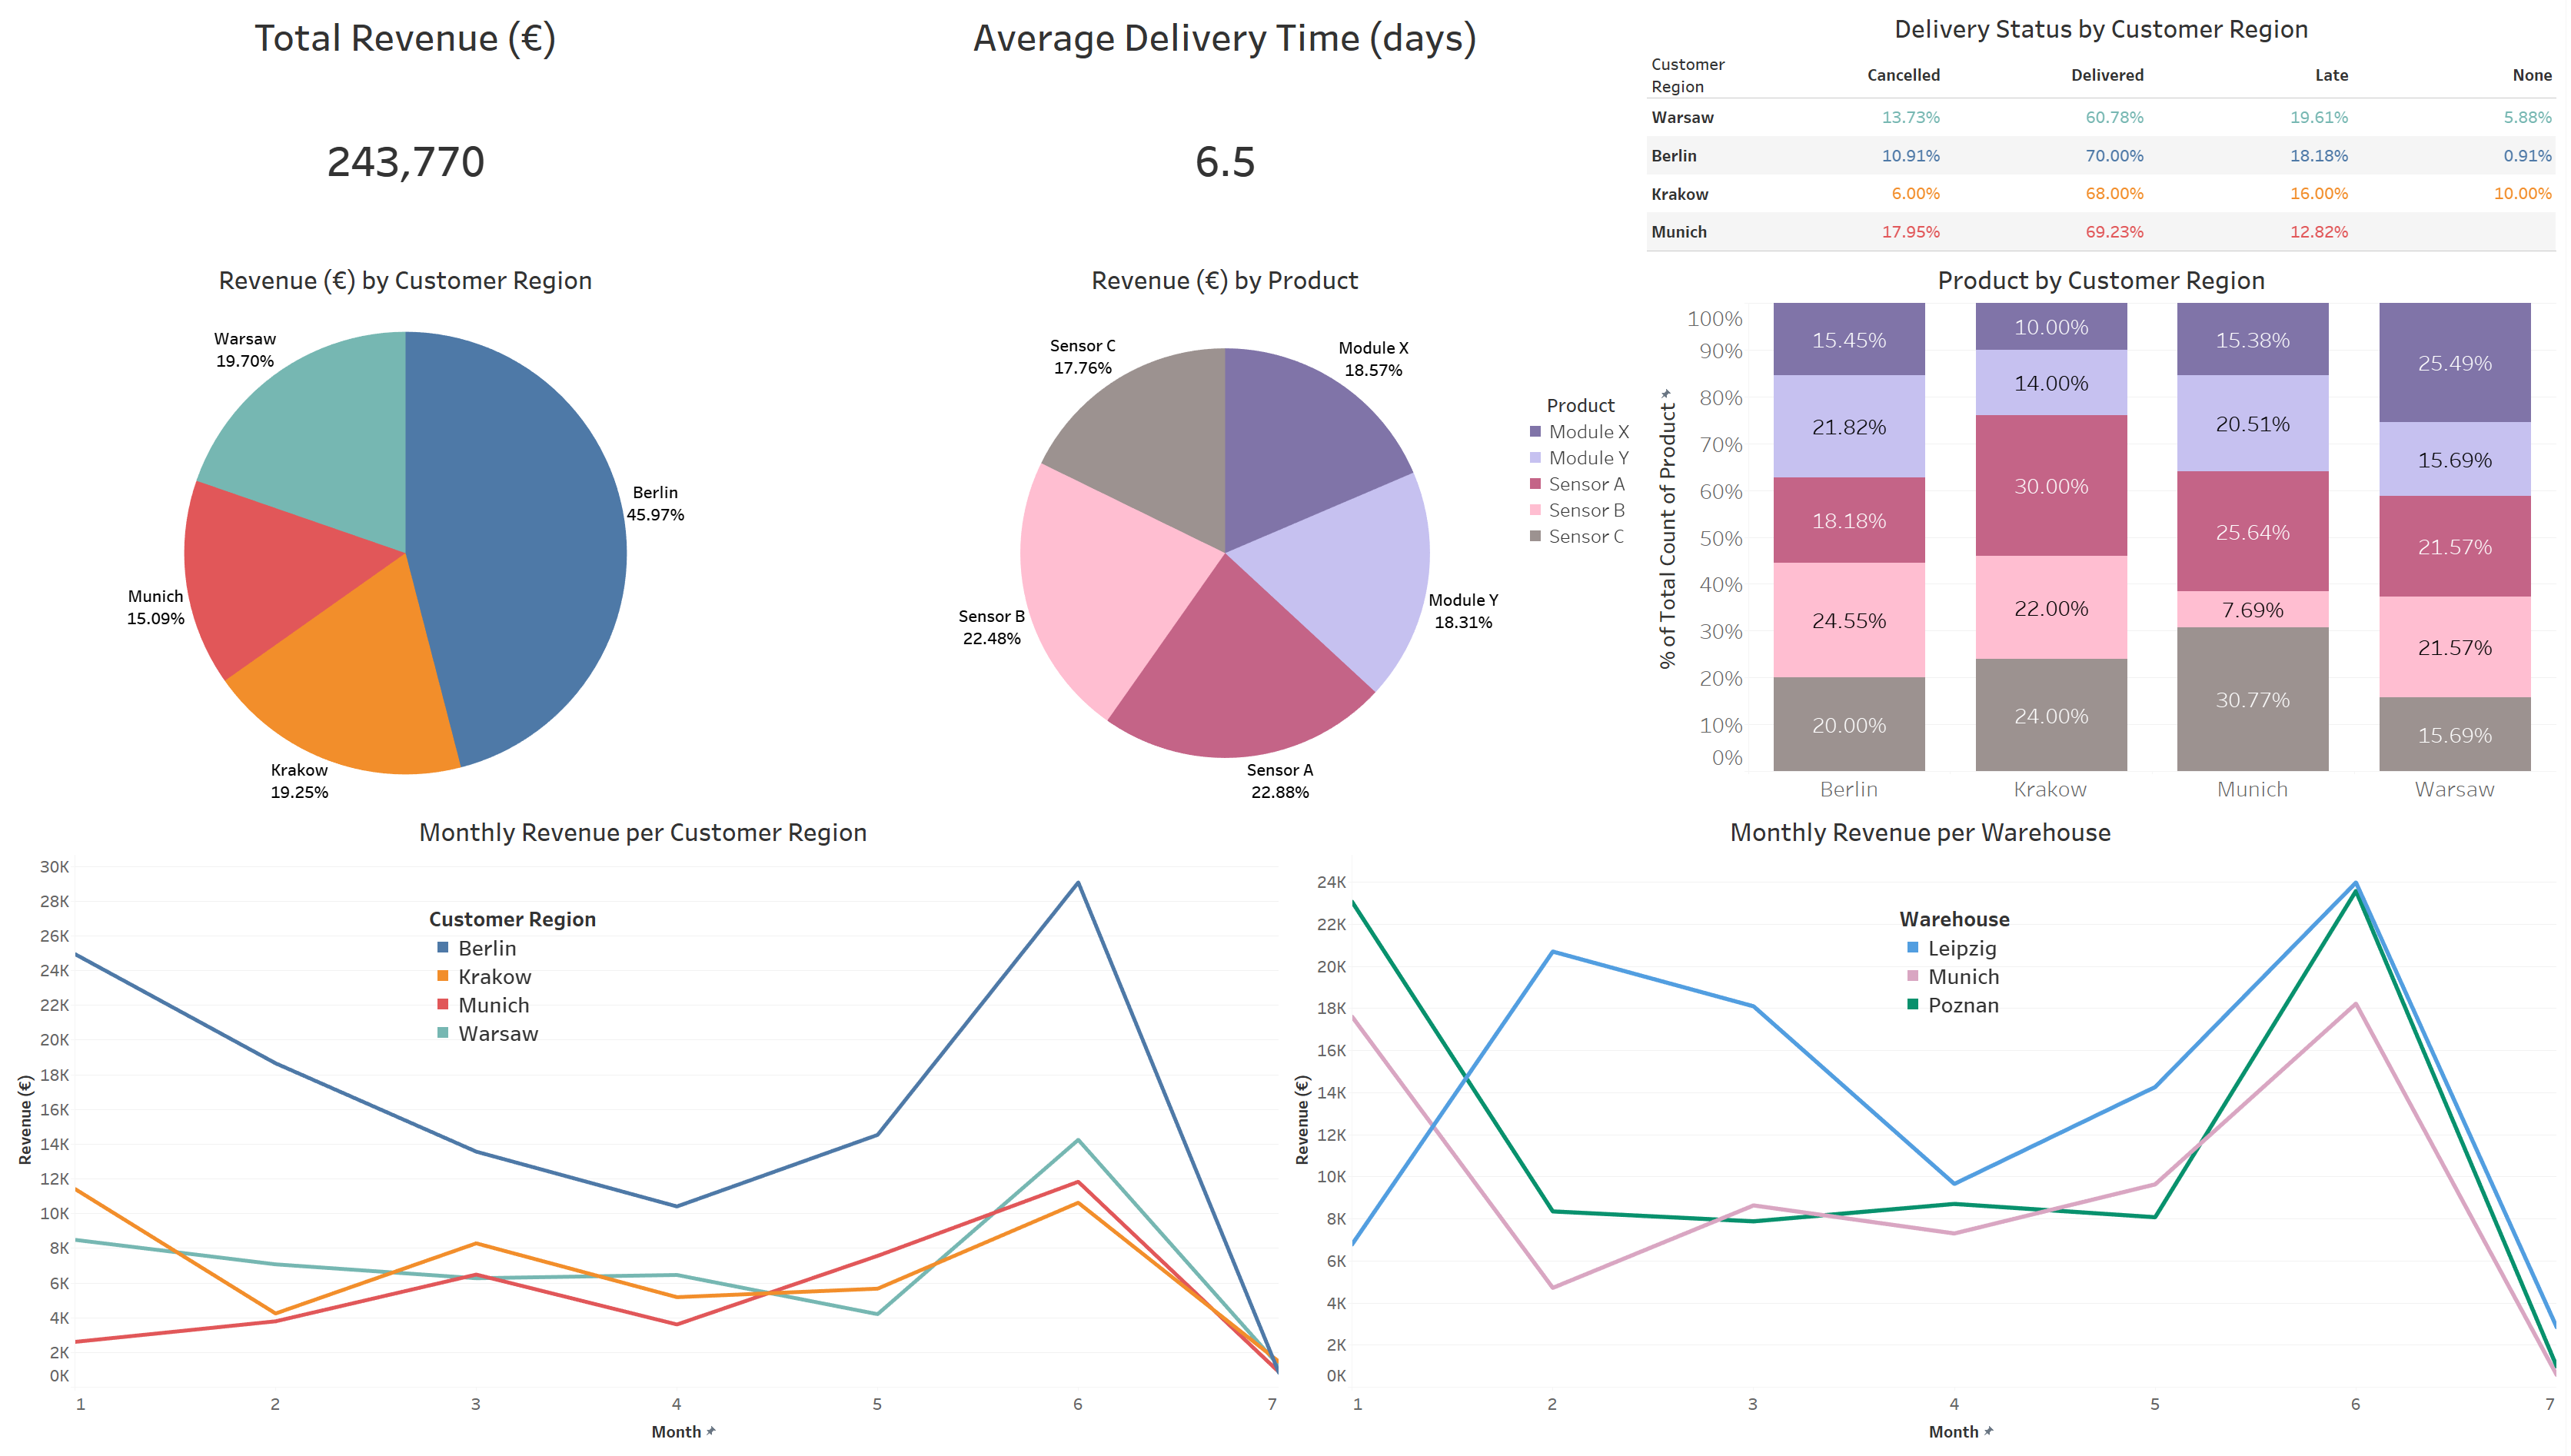

The page's visual inventory and layout, read from the dashboard file:
{"tool":"tableau","page":{"name":"Dashboard 1","canvas":[1000,1000],"units":"permille","ordinal":0},"visuals":[{"type":"worksheet","title":"KPI 1","mark":"Automatic","box":[2.2,4.2,312.5,171.9]},{"type":"worksheet","title":"KPI 2","mark":"Automatic","box":[314.7,4.2,326.3,171.9]},{"type":"worksheet","title":"Table","mark":"Automatic","rows":["Customer Region"],"cols":["Delivery Status"],"box":[641,4.2,356.8,171.9]},{"type":"worksheet","title":"pie 1","mark":"Pie","box":[2.2,176.2,312.5,378.3]},{"type":"worksheet","title":"pie 2","mark":"Pie","box":[314.7,176.2,326.2,378.3]},{"type":"worksheet","title":"count plot 2","mark":"Automatic","cols":["Customer Region"],"box":[641,176.2,356.8,378.3]},{"type":"legend","title":"count plot 2","param":"[federated.14ou7zu1irc9jb1bit6nz1d80mlu].[none:Product:nk]","box":[593.6,270.7,45.8,128]},{"type":"worksheet","title":"line 1","mark":"Automatic","rows":["Revenue (€)"],"cols":["Calculation_1291970170904203264"],"box":[2.2,554.5,497.8,441.3]},{"type":"worksheet","title":"line 2","mark":"Automatic","rows":["Revenue (€)"],"cols":["Calculation_1291970170904203264"],"box":[500,554.5,497.8,441.3]},{"type":"legend","title":"line 1","param":"[federated.14ou7zu1irc9jb1bit6nz1d80mlu].[none:Customer Region:nk]","box":[167.7,621.2,104.2,110.6]},{"type":"legend","title":"line 2","param":"[federated.14ou7zu1irc9jb1bit6nz1d80mlu].[none:Warehouse:nk]","box":[740.3,621.4,62.6,92.2]}]}

Visuals, with their boxes on the dashboard's canvas, which has no fixed pixel size, in thousandths of its width and height (x1, y1, x2, y2). These are canvas units, not pixel positions in the 2571x1456 screenshot, which may show the page scaled, cropped or inside an application window:
"KPI 1" worksheet: 2:4:315:176
"KPI 2" worksheet: 315:4:641:176
"Table" worksheet: 641:4:998:176
"pie 1" worksheet (Pie marks): 2:176:315:554
"pie 2" worksheet (Pie marks): 315:176:641:554
"count plot 2" worksheet: 641:176:998:554
"count plot 2" legend: 594:271:639:399
"line 1" worksheet: 2:554:500:996
"line 2" worksheet: 500:554:998:996
"line 1" legend: 168:621:272:732
"line 2" legend: 740:621:803:714
